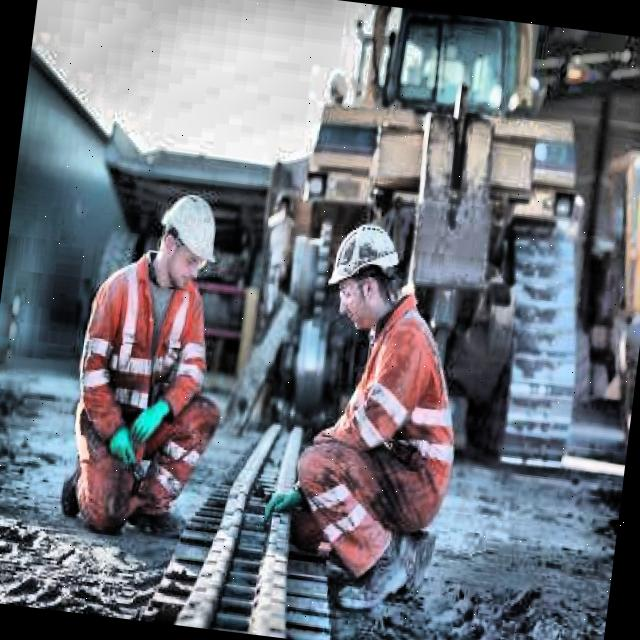helmet: (317, 208, 413, 342), (148, 178, 228, 294)
